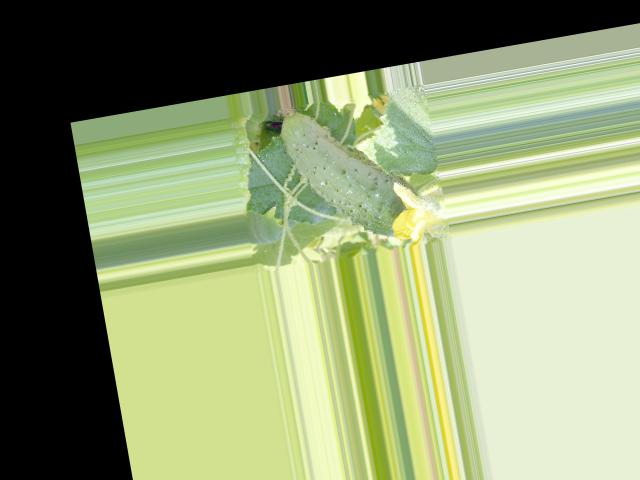cucumber: (275, 87, 424, 252)
